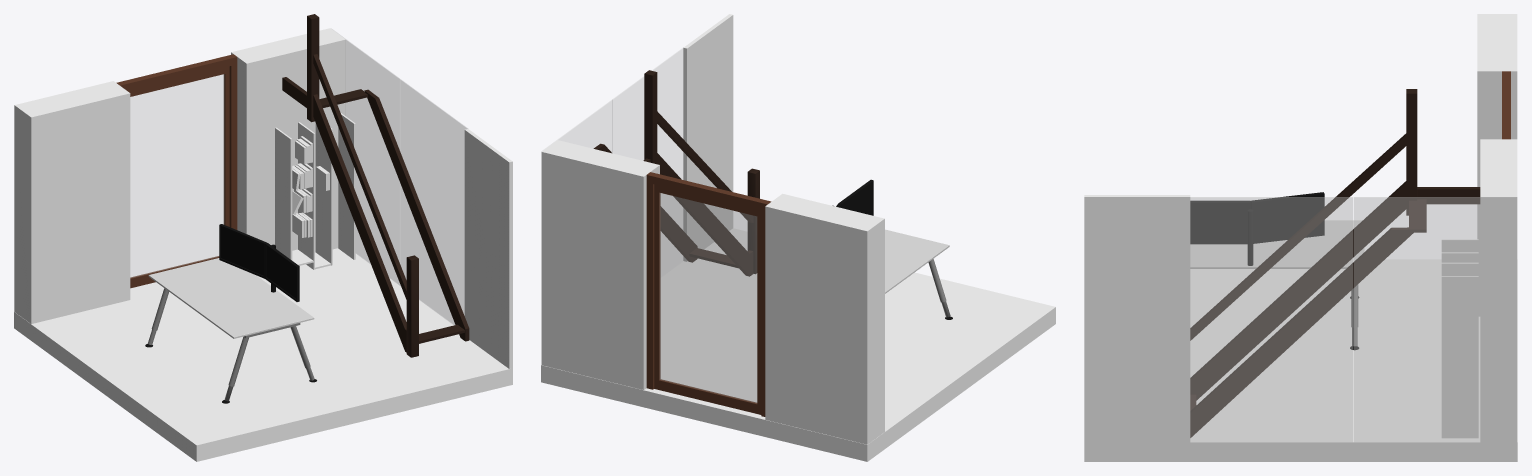
Rendered from office.glb.
3 views of the same model, side by side, from view 1: azimuth 30°, elevation 25°; view 2: azimuth 150°, elevation 25°; view 3: azimuth 270°, elevation 25° (orthographic). The views are drawn at different scales.
Visible parts, largest first — view 1: Cube, Cube.016, Cube.018, Cube.014, Cube.001, Cube.015, Cube.009, Cube.002, Cube.008, Cube.010, Cube.013, Cube.017 (+9 smaller); view 2: Cube, Cube.016, Cube.014, Cube.018, Cube.015, Cube.001, Cube.013, Cube.017, Cube.002, Cube.008, Cube.009, Cube.019 (+4 smaller); view 3: Cube, Cube.001, Cube.009, Cube.015, Cube.014, Cube.008, Cube.022, Cube.010, Cube.016, Cube.002, Cube.012, Cube.005 (+7 smaller).
Boxes of the visible parts, x1,y1,x2,y2 form: Cube: (14, 248, 512, 461); Cube.016: (14, 81, 130, 323); Cube.018: (130, 74, 224, 277); Cube.014: (231, 28, 345, 252); Cube.001: (399, 79, 467, 324); Cube.015: (464, 129, 512, 368); Cube.009: (331, 28, 399, 284); Cube.002: (148, 258, 314, 338); Cube.008: (313, 94, 406, 352); Cube.010: (364, 89, 469, 341); Cube.013: (116, 54, 237, 229); Cube.017: (128, 66, 229, 288); Cube: (541, 228, 1055, 461); Cube.016: (765, 193, 884, 444); Cube.014: (541, 140, 659, 389); Cube.018: (659, 193, 756, 403); Cube.015: (683, 14, 733, 261); Cube.001: (612, 48, 683, 276); Cube.013: (646, 172, 771, 416); Cube.017: (654, 184, 761, 414); Cube.002: (885, 229, 949, 293); Cube.008: (657, 153, 753, 276); Cube.009: (541, 100, 612, 152); Cube.019: (644, 70, 657, 164); Cube: (1084, 259, 1517, 461); Cube.001: (1190, 197, 1352, 442); Cube.009: (1354, 197, 1515, 442); Cube.015: (1084, 195, 1190, 442); Cube.014: (1480, 139, 1517, 442); Cube.008: (1190, 181, 1406, 400); Cube.022: (1441, 276, 1478, 438); Cube.010: (1190, 227, 1417, 437); Cube.016: (1477, 14, 1517, 316); Cube.002: (1190, 220, 1364, 268); Cube.012: (1190, 133, 1406, 340); Cube.005: (1250, 192, 1324, 243).
Bounding box in the file's own units: 4 × 3.41 × 4.
